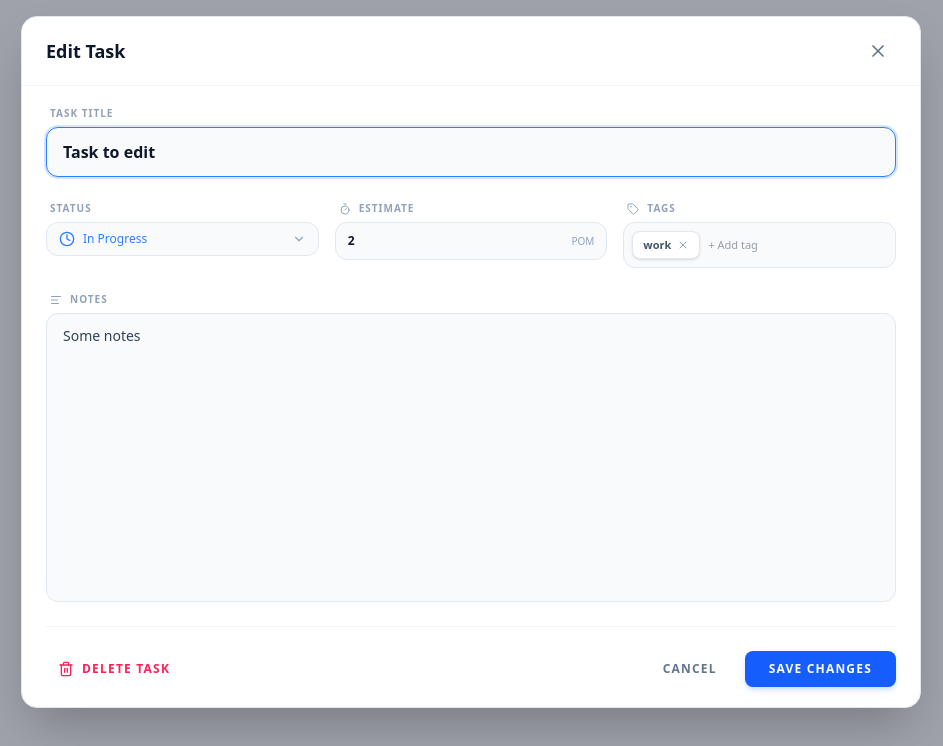
Test case: TaskDetailDialog › Save button is disabled when title is empty
Clear the field with placeholder "What needs to be done?": coordinates (471, 152) [46,127,896,177]
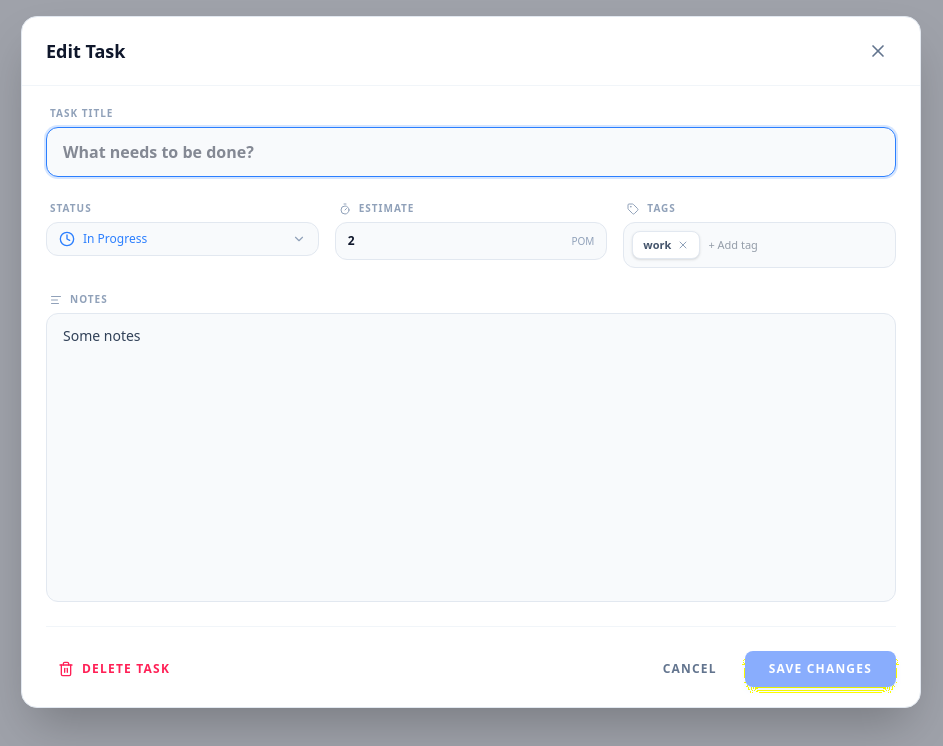
Result: the button "Save Changes" is disabled at [745,651,896,687]
